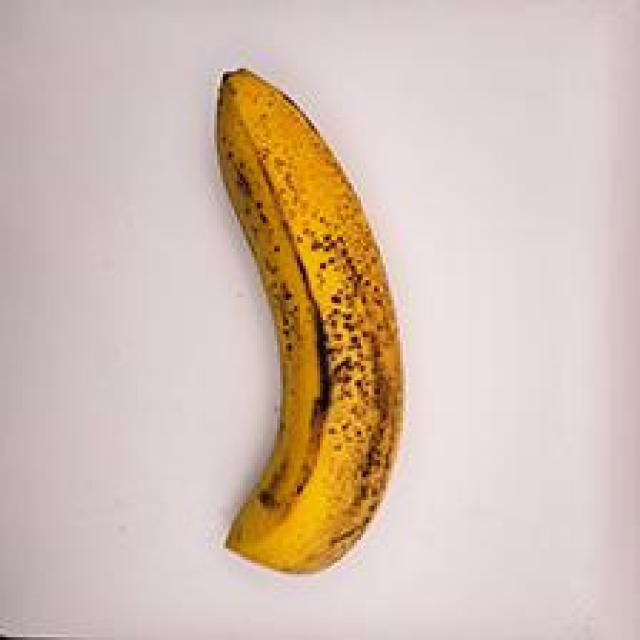Overripe: (155, 51, 419, 593)
